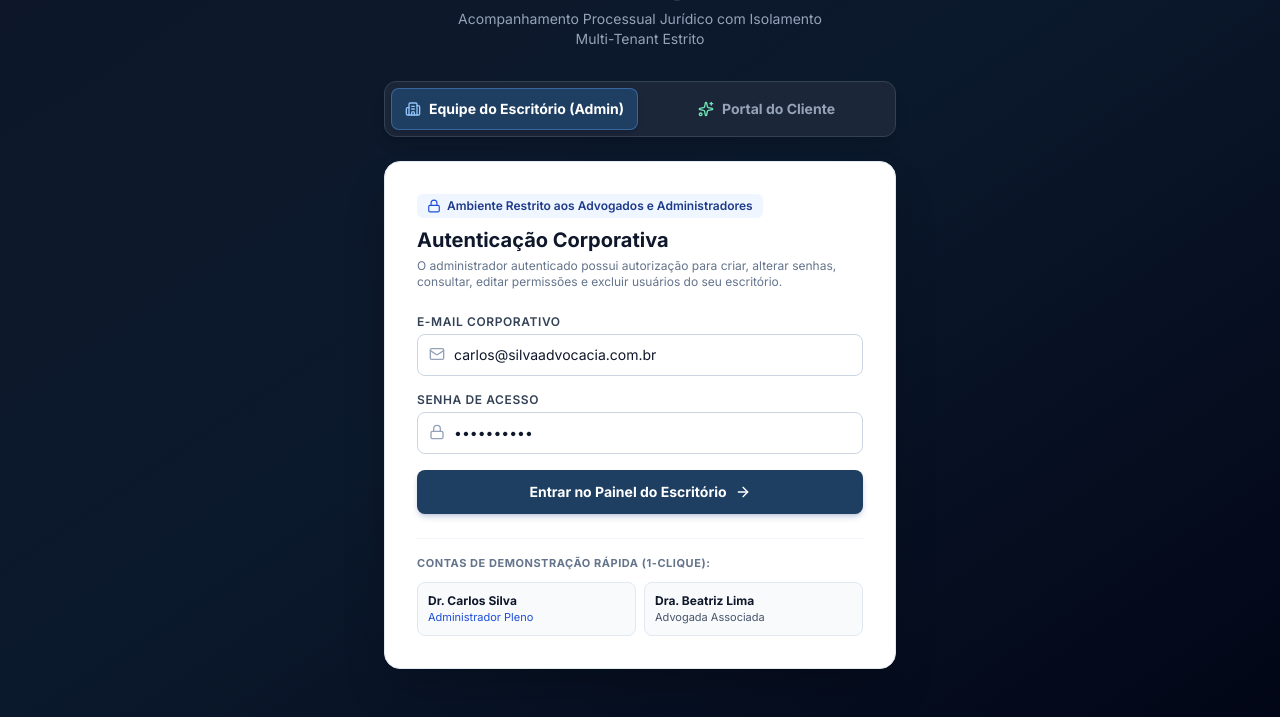
it: Fluxo de Abertura do Sistema e Telas de Login › 2. Deve permitir login de administrador (1-clique) e abrir o painel de gestão jurídica
(page scrolled)
// Clica no acesso rápido de Dr. Carlos Silva
Click the text "Dr. Carlos Silva" at coordinates (472, 600), box [428, 592, 517, 608]
(page scrolled)
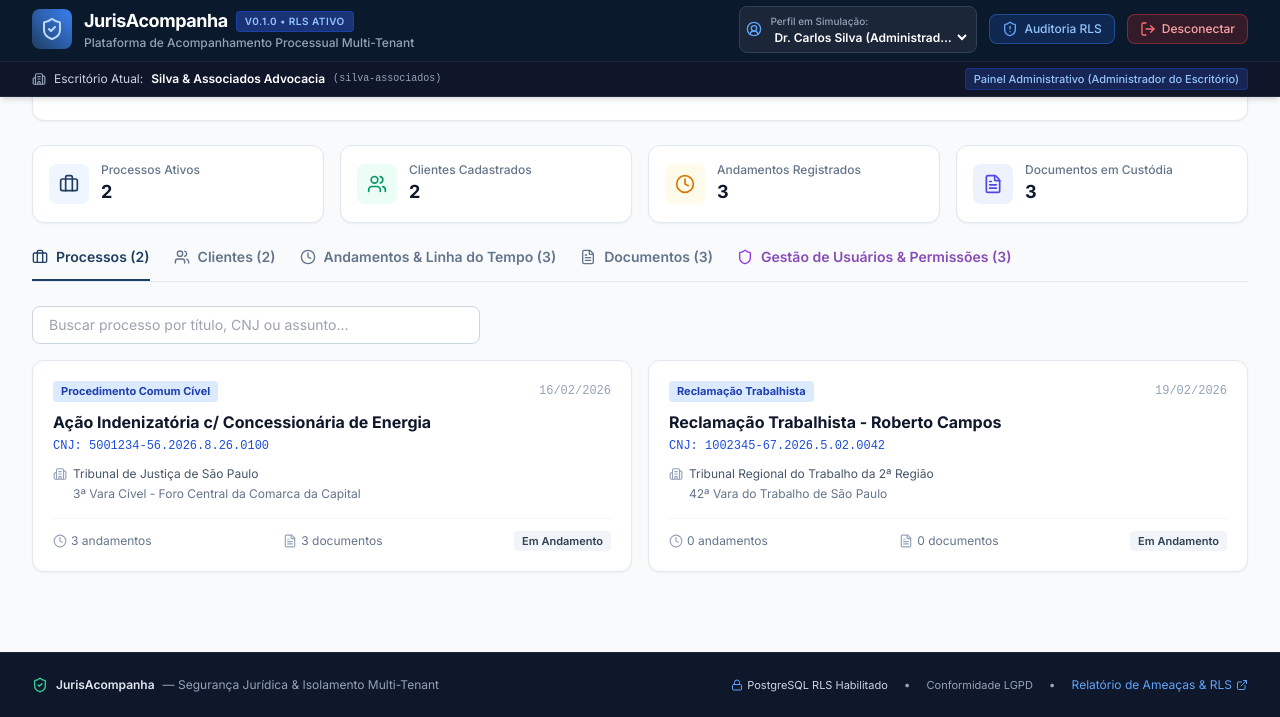
Expected: the text "Painel de Gestão Jurídica" is shown, [57, 22, 244, 38]
